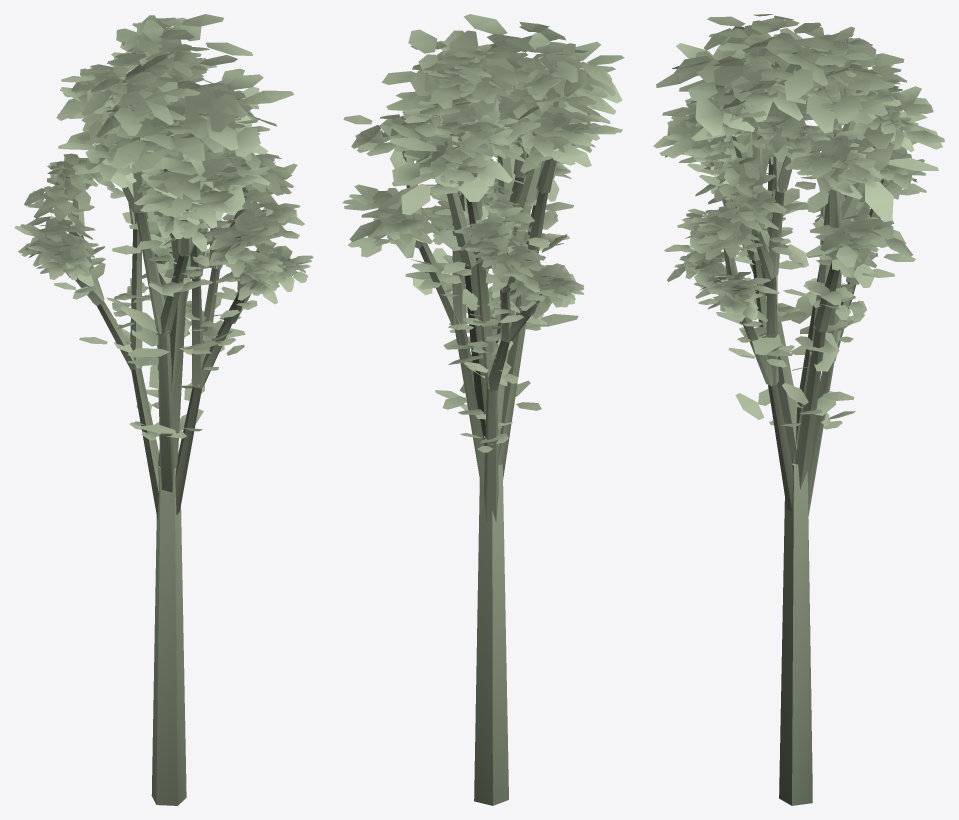
The model's file is tree_def_slender.glb.
The picture shows the model from 3 angles, left to right: view 1: azimuth 30°, elevation 25°; view 2: azimuth 150°, elevation 25°; view 3: azimuth 270°, elevation 25°; orthographic projection.
Visible parts, largest first — view 1: tier2_foliage, tier1_foliage, tier0_foliage, tier0_bark, tier2_bark, tier1_bark; view 2: tier1_foliage, tier2_foliage, tier0_foliage, tier0_bark, tier1_bark, tier2_bark; view 3: tier2_foliage, tier1_foliage, tier0_foliage, tier0_bark, tier2_bark, tier1_bark.
Part boxes in pixels (left/top/right/bottom): tier2_foliage: left=14, top=15, right=313, bottom=440; tier1_foliage: left=58, top=17, right=269, bottom=438; tier0_foliage: left=56, top=14, right=293, bottom=388; tier0_bark: left=145, top=169, right=190, bottom=805; tier2_bark: left=63, top=96, right=266, bottom=519; tier1_bark: left=122, top=136, right=203, bottom=492; tier1_foliage: left=342, top=33, right=624, bottom=428; tier2_foliage: left=416, top=52, right=584, bottom=452; tier0_foliage: left=377, top=14, right=622, bottom=385; tier0_bark: left=446, top=144, right=541, bottom=805; tier1_bark: left=402, top=95, right=563, bottom=488; tier2_bark: left=454, top=86, right=542, bottom=523; tier2_foliage: left=664, top=26, right=926, bottom=429; tier1_foliage: left=653, top=14, right=915, bottom=426; tier0_foliage: left=656, top=37, right=944, bottom=371; tier0_bark: left=753, top=133, right=864, bottom=805; tier2_bark: left=704, top=125, right=887, bottom=516; tier1_bark: left=710, top=120, right=859, bottom=489.
Size of the model in its own units: 0.3274 by 1 by 0.345.
